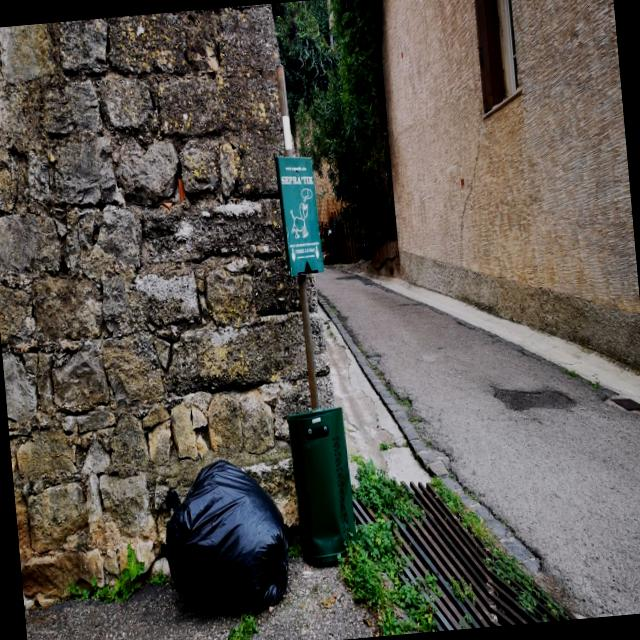garbage: (147, 444, 316, 626)
